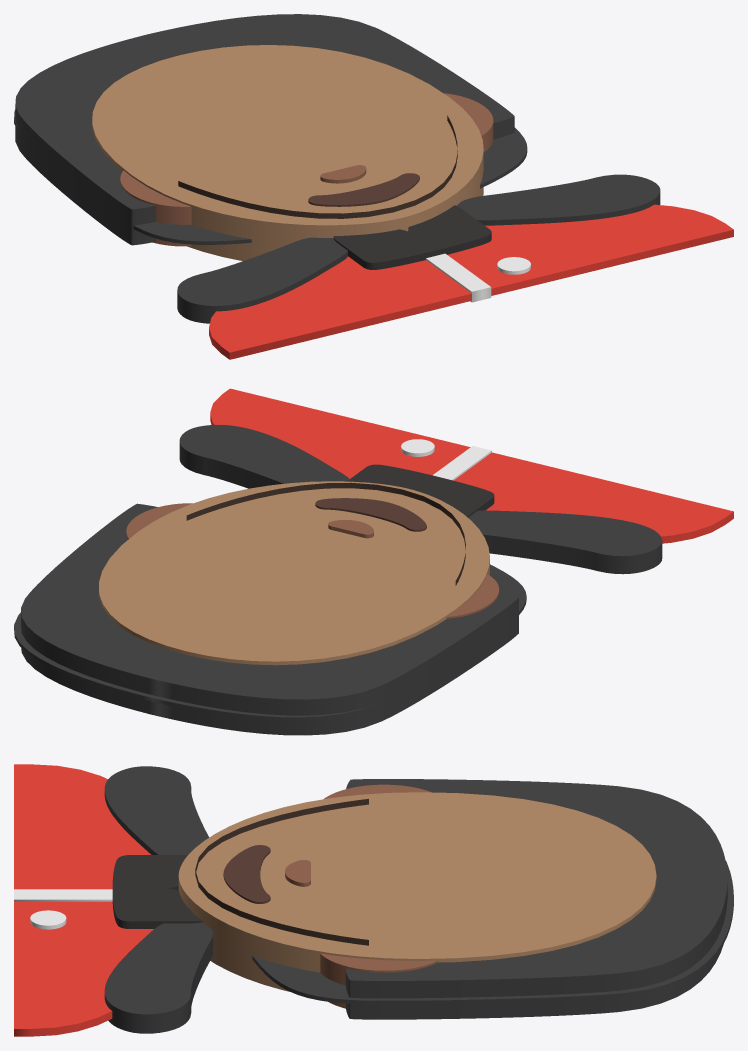
Rendered from emoji_u1f482_1f3fd_200d_2642.glb.
The picture shows the model from 3 angles, top to bottom: view 1: azimuth 30°, elevation 25°; view 2: azimuth 150°, elevation 25°; view 3: azimuth 270°, elevation 25°; orthographic projection. The views are drawn at different scales.
Parts seen in each view (by area): view 1: emoji_u1f482_1f3fd_200d_2642; view 2: emoji_u1f482_1f3fd_200d_2642; view 3: emoji_u1f482_1f3fd_200d_2642.
Boxes of the visible parts, x1,y1,x2,y2 form: emoji_u1f482_1f3fd_200d_2642: (14,14,733,359); emoji_u1f482_1f3fd_200d_2642: (14,388,733,735); emoji_u1f482_1f3fd_200d_2642: (14,764,733,1036).
Size of the model in its own units: 0.0293 by 0.003 by 0.0337.
